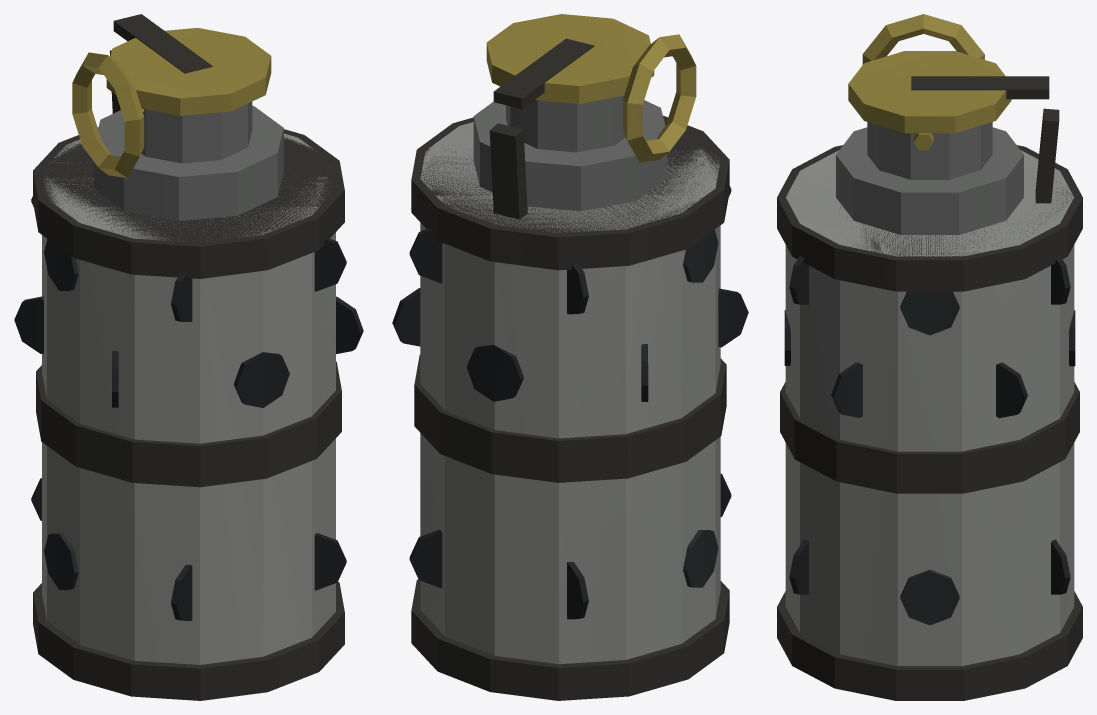
The picture shows the model from 3 angles, left to right: view 1: azimuth 30°, elevation 25°; view 2: azimuth 150°, elevation 25°; view 3: azimuth 270°, elevation 25°; orthographic projection. The views are drawn at different scales.
Visible parts, largest first — view 1: flash; view 2: flash; view 3: flash.
Boxes of the visible parts, <box> form: flash: <box>14,14,363,700</box>; flash: <box>392,14,748,700</box>; flash: <box>777,14,1082,700</box>.
Size of the model in its own units: 0.0578 by 0.125 by 0.0593.
Materials: 1 (1 with a texture image).
